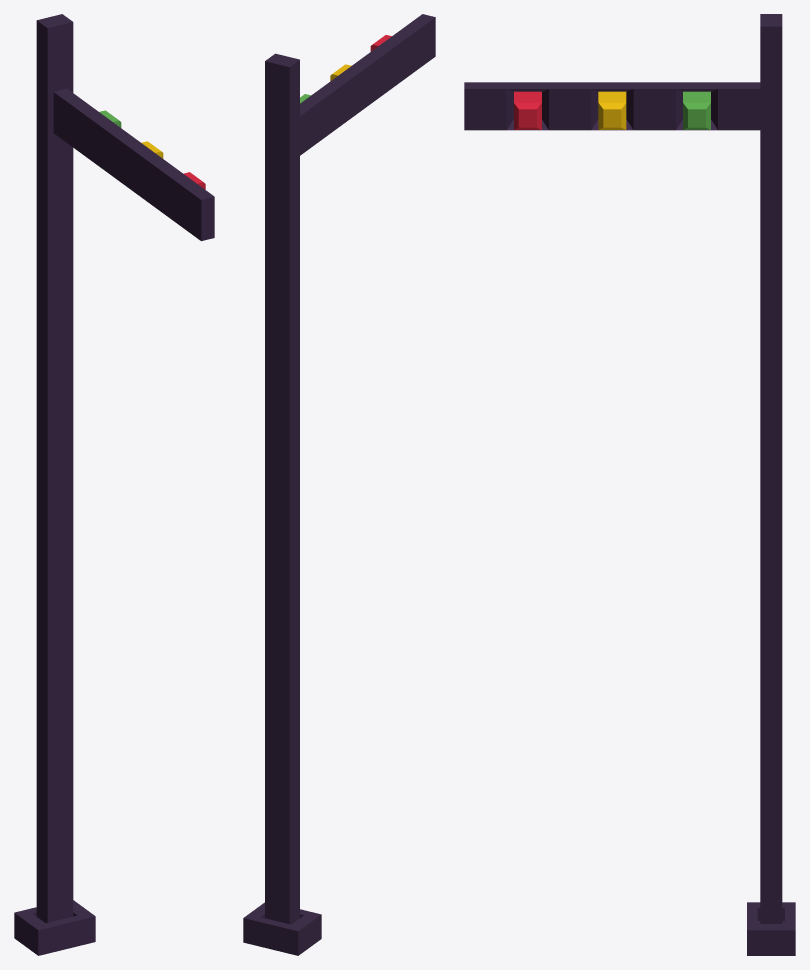
File: trafficsignal.glb
3 renders of one model, left to right at view 1: azimuth 30°, elevation 25°; view 2: azimuth 150°, elevation 25°; view 3: azimuth 270°, elevation 25°, orthographic. The views are drawn at different scales.
Parts seen in each view (by area): view 1: trafficsignal; view 2: trafficsignal; view 3: trafficsignal.
Boxes of the visible parts, box(x1,y1,x2,y2) form: trafficsignal: box(14, 14, 214, 955); trafficsignal: box(243, 14, 435, 955); trafficsignal: box(464, 14, 795, 955).
Size of the model in its own units: 0.4503 by 6.9 by 2.25.
Materials: 1 (1 with a texture image).
